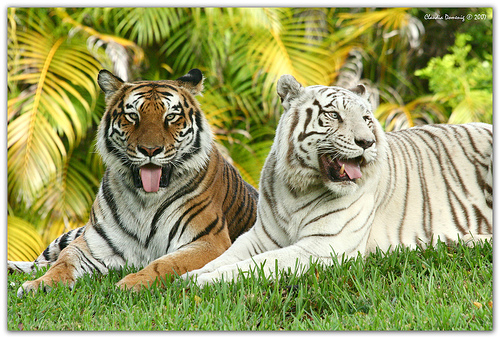Tigre: (254, 57, 498, 280), (67, 77, 250, 280)
